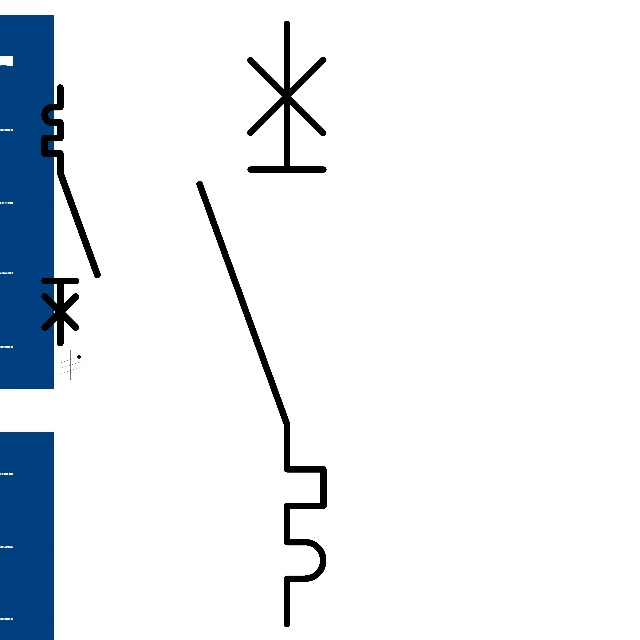interruptor_termomagnetico: (184, 8, 339, 640), (38, 81, 103, 350)
